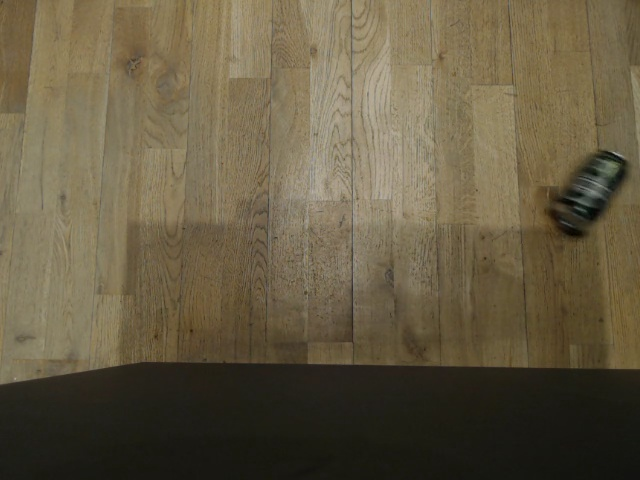beer: (549, 148, 630, 231)
